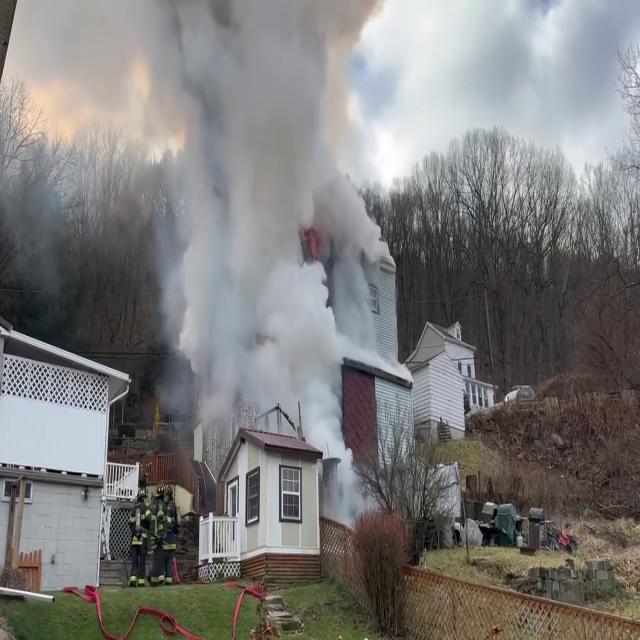Smoke: (149, 0, 383, 465)
